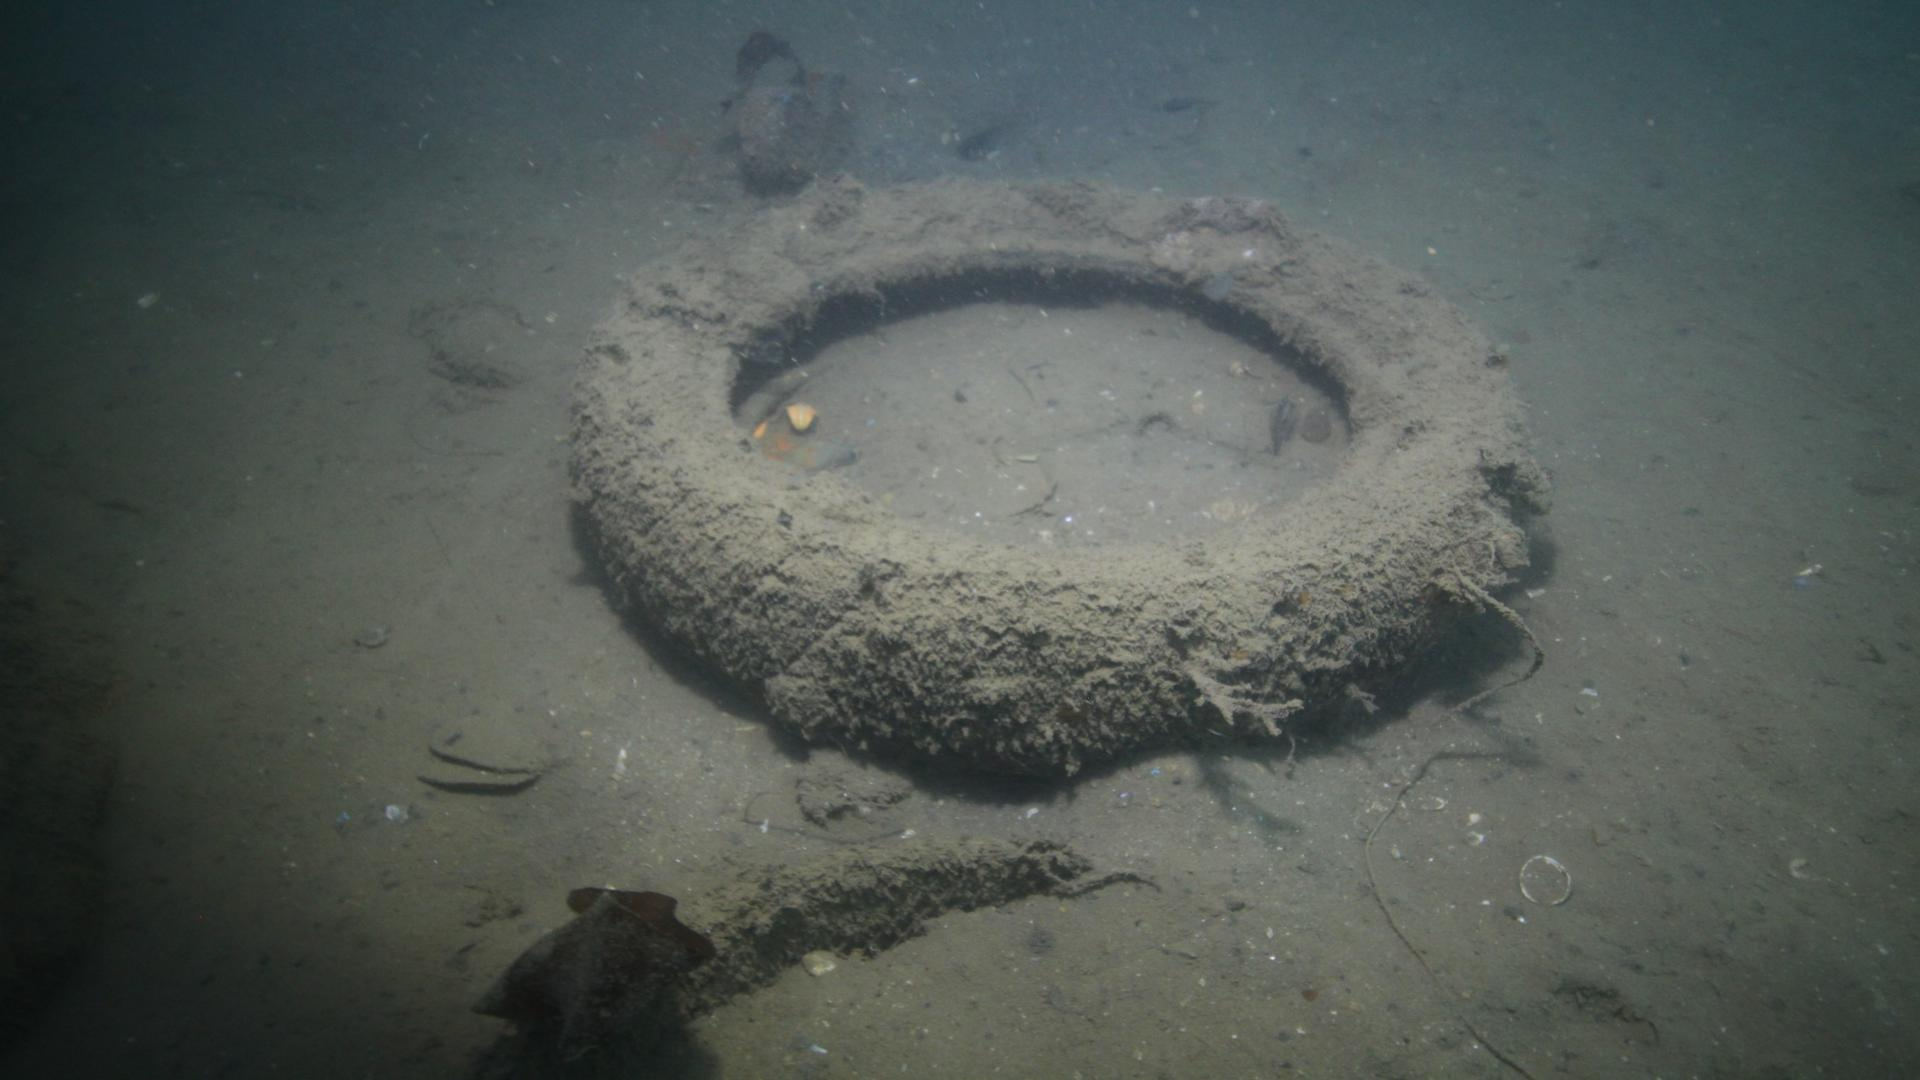fish net: (694, 876, 1040, 1007)
tire: (567, 175, 1540, 771)
